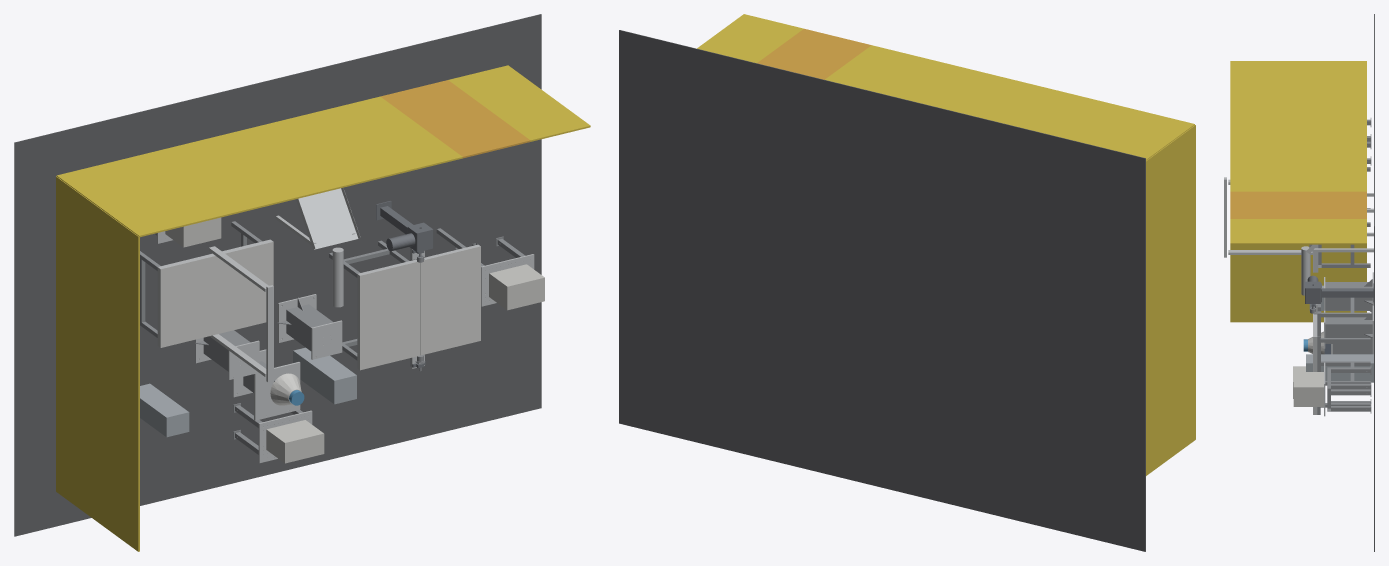
The model's file is lab1_cell.glb.
The picture shows the model from 3 angles, left to right: view 1: azimuth 30°, elevation 25°; view 2: azimuth 150°, elevation 25°; view 3: azimuth 270°, elevation 25°; orthographic projection. The views are drawn at different scales.
Visible parts, largest first — view 1: floor, L1 fence panel back 1, L1 fence panel left, L1 RT-100 registration table (Rig A) | RT-105_perforated_she, L1 FT-200 folding table (Rigs C and D) | FT-206_fixed_sheet, L1 FT-200 folding table (Rigs C and D) | FTMOVE FT-206_movin, L1 fence interlocked service door, L1 fence panel back 2, L1 OC-600 output chute (Rig D) | OC-601_chute, L2 rib loop fixture with 100 mm peg (location EST), BUY flat-bed 4-thread overlock on a Lab 2 flat seam fixture , BUY cylinder-bed overlocker on the Lab 2 collar fixture (siz (+15 smaller); view 2: floor, L1 fence panel left, L1 fence panel back 1, L1 fence interlocked service door, L1 fence panel back 2; view 3: L1 fence panel back 1, L1 fence panel left, L1 fence interlocked service door, L1 fence panel back 2, BUY flat-bed 4-thread overlock on a Lab 2 flat seam fixture , L1 CP-300 cobot pedestal B | CP-303_column, L2 rib loop fixture with 100 mm peg (location EST), L1 SP-400 plinth, flat-bed overlock (side seam head, positio (×4), L1 CP-300 cobot pedestal A | CP-303_column, L1 FT-200 folding table (Rigs C and D) | FT-203_frame, L1 FT-200 folding table (Rigs C and D) | FT-217_drive_post__, floor (+9 smaller).
Part boxes in pixels (box(x1,y1,x2,y2)): floor: box(14, 14, 541, 536); L1 fence panel back 1: box(56, 96, 462, 237); L1 fence panel left: box(56, 176, 139, 551); L1 RT-100 registration table (Rig A) | RT-105_perforated_she: box(160, 241, 273, 347); L1 FT-200 folding table (Rigs C and D) | FT-206_fixed_sheet: box(360, 262, 420, 370); L1 FT-200 folding table (Rigs C and D) | FTMOVE FT-206_movin: box(420, 246, 480, 355); L1 fence interlocked service door: box(380, 80, 530, 158); L1 fence panel back 2: box(448, 65, 590, 141); L1 OC-600 output chute (Rig D) | OC-601_chute: box(296, 188, 360, 249); L2 rib loop fixture with 100 mm peg (location EST): box(293, 347, 356, 404); BUY flat-bed 4-thread overlock on a Lab 2 flat seam fixture : box(489, 264, 544, 310); BUY cylinder-bed overlocker on the Lab 2 collar fixture (siz: box(266, 420, 324, 463); floor: box(619, 30, 1145, 551); L1 fence panel left: box(1146, 125, 1195, 475); L1 fence panel back 1: box(825, 45, 1194, 160); L1 fence interlocked service door: box(757, 28, 871, 79); L1 fence panel back 2: box(697, 14, 803, 63); L1 fence panel back 1: box(1230, 61, 1366, 191); L1 fence panel left: box(1230, 244, 1366, 322); L1 fence interlocked service door: box(1230, 191, 1366, 218); L1 fence panel back 2: box(1230, 219, 1366, 244); BUY flat-bed 4-thread overlock on a Lab 2 flat seam fixture : box(1293, 372, 1323, 406); L1 CP-300 cobot pedestal B | CP-303_column: box(1325, 317, 1372, 343); L2 rib loop fixture with 100 mm peg (location EST): box(1306, 354, 1373, 382); L1 SP-400 plinth, flat-bed overlock (side seam head, positio (×4): box(1331, 367, 1370, 411); L1 CP-300 cobot pedestal A | CP-303_column: box(1325, 282, 1372, 310); L1 FT-200 folding table (Rigs C and D) | FT-203_frame: box(1320, 297, 1370, 385); L1 FT-200 folding table (Rigs C and D) | FT-217_drive_post__: box(1321, 283, 1373, 302); floor: box(1374, 14, 1374, 551).
Bounding box in the file's own units: 7 × 5 × 2.1.
